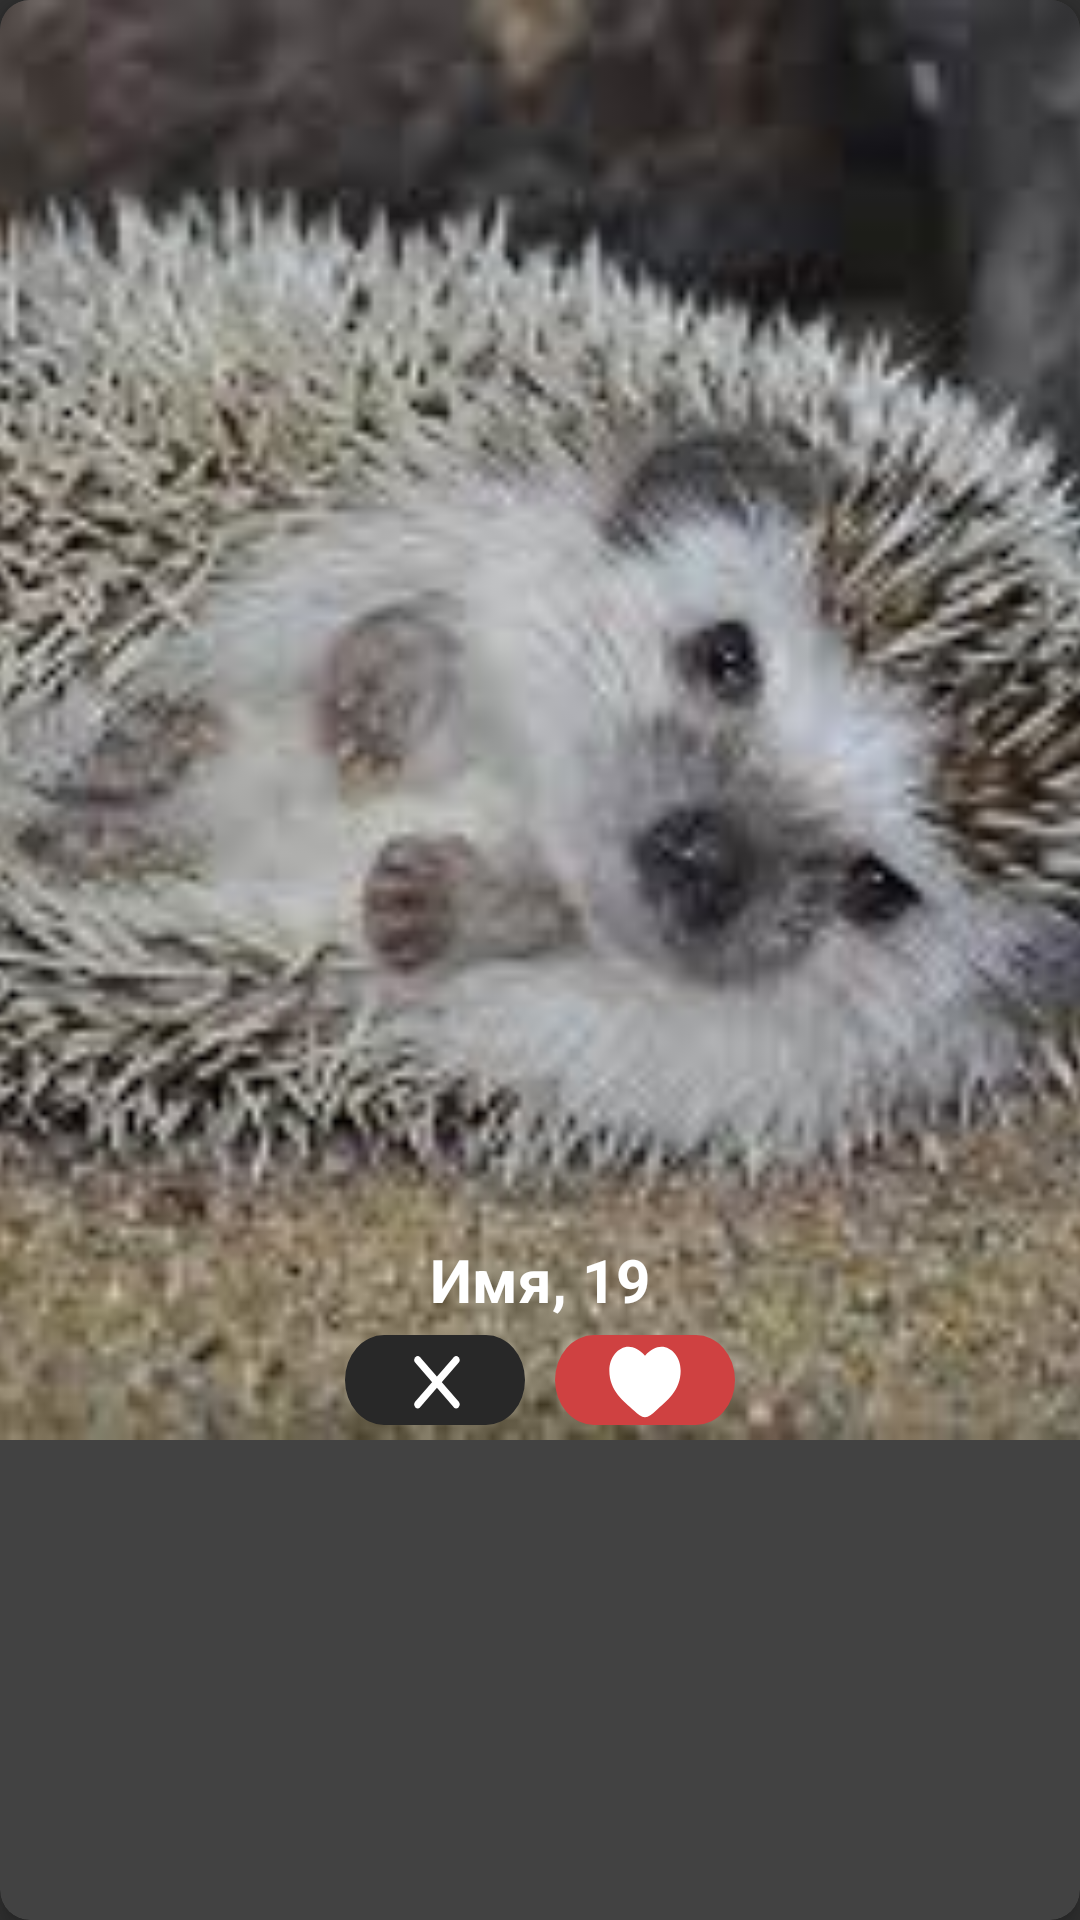

Where icons sit on this 1080*1920 app screen, as {"x1": x1, "y1": y1, "x2": x2, "y2": y2}:
liked but like: {"x1": 555, "y1": 1335, "x2": 735, "y2": 1425}
liked but nolike: {"x1": 345, "y1": 1335, "x2": 525, "y2": 1425}
